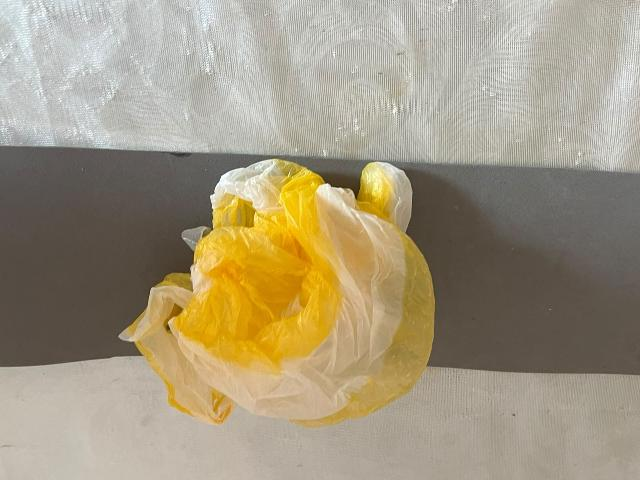LDPE: (85, 138, 506, 455)
